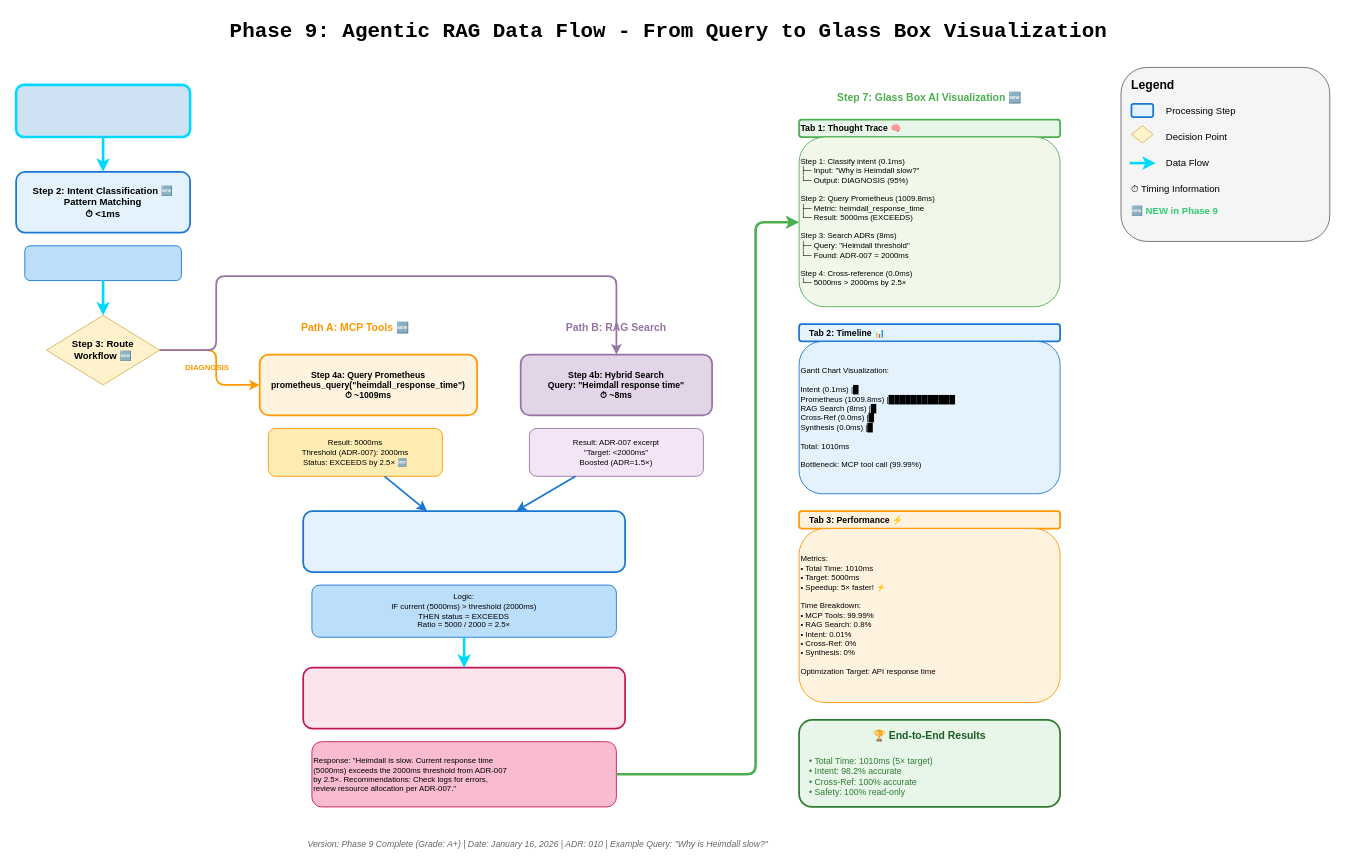
Some shapes in this 1345 by 867 pixel diagram are drawn without their labels. The box of each missing label's shape, as (x1, y1, x2, y2) in pixels:
Result: DIAGNOSIS Confidence: 95%: (24, 245, 181, 281)
Step 1: User Query "Why is Heimdall slow?": (14, 83, 191, 138)
Step 5: Cross-Reference 🆕 Compare Live vs Documented ⏱ <1ms: (302, 510, 626, 572)
Step 6: LLM Synthesis Ollama GPU (qwen2.5:32b) ⏱ ~0ms (instant): (302, 666, 626, 729)
